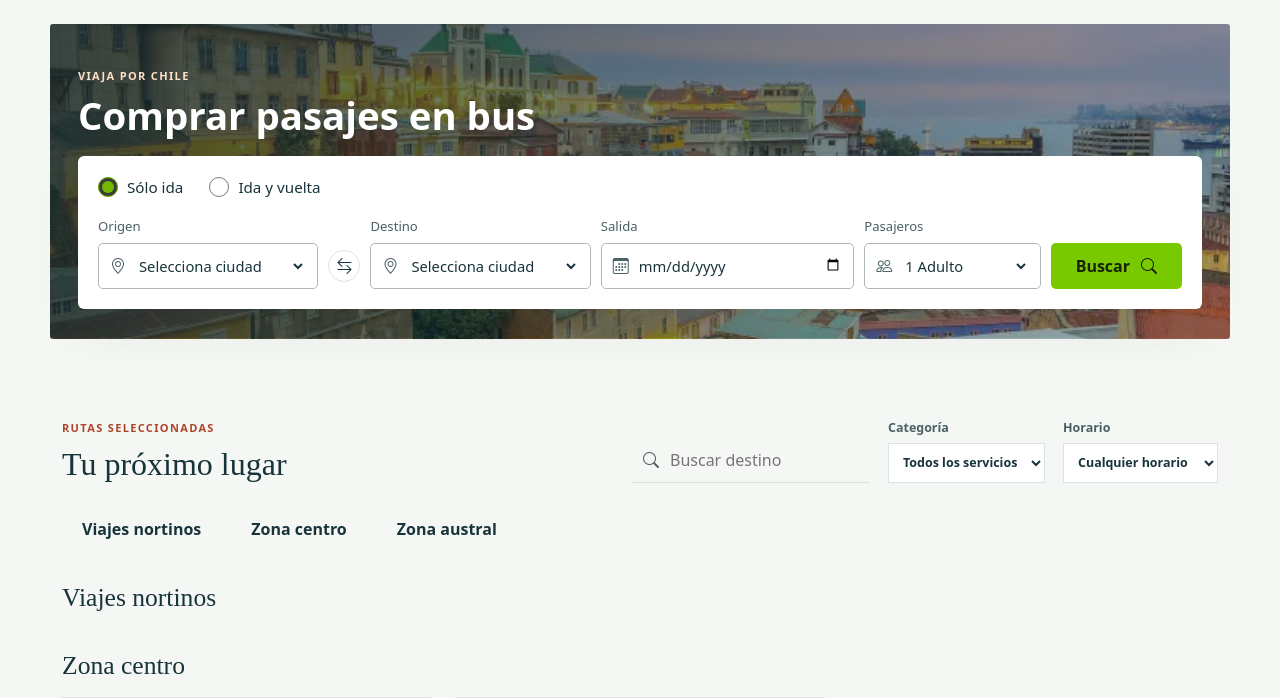
MenuPage › permite buscar ida y vuelta con origen, destino, fechas y pasajeros
The width and height of the screenshot is (1280, 698).
Step 1. Click the radio button labelled "Ida y vuelta" → (219, 188), box [209, 178, 229, 198]
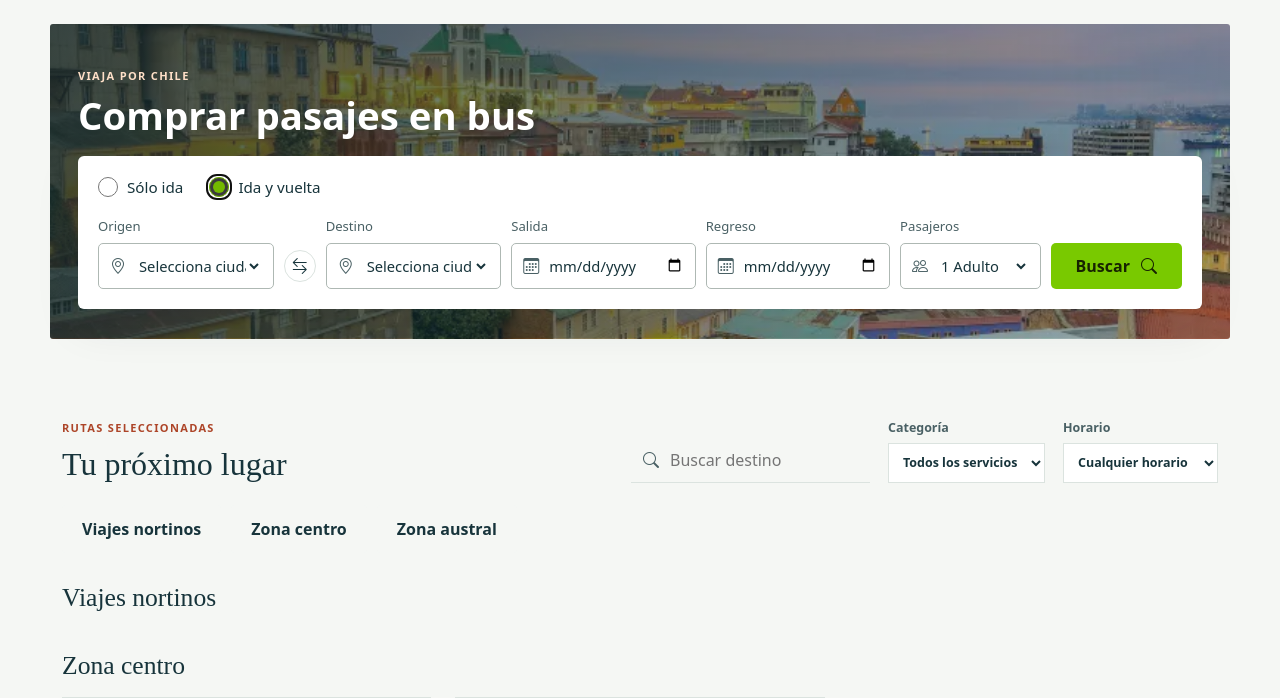
Step 2. Select "Santiago" in the dropdown labelled "Origen" → (198, 266), box [135, 244, 262, 288]
Step 3. Select "Valparaíso" in the dropdown labelled "Destino" → (426, 266), box [363, 244, 489, 288]
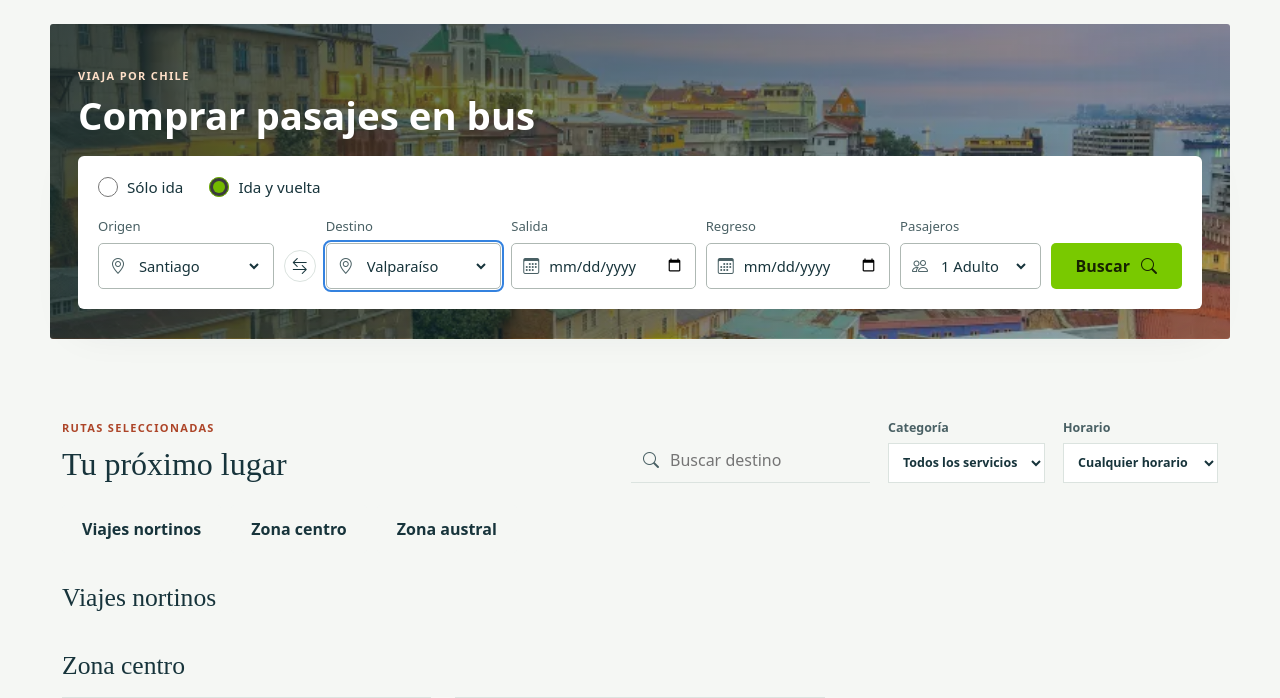
Step 4. Type "2026-12-01" into the date field labelled "Salida" → (616, 266), box [548, 244, 684, 288]
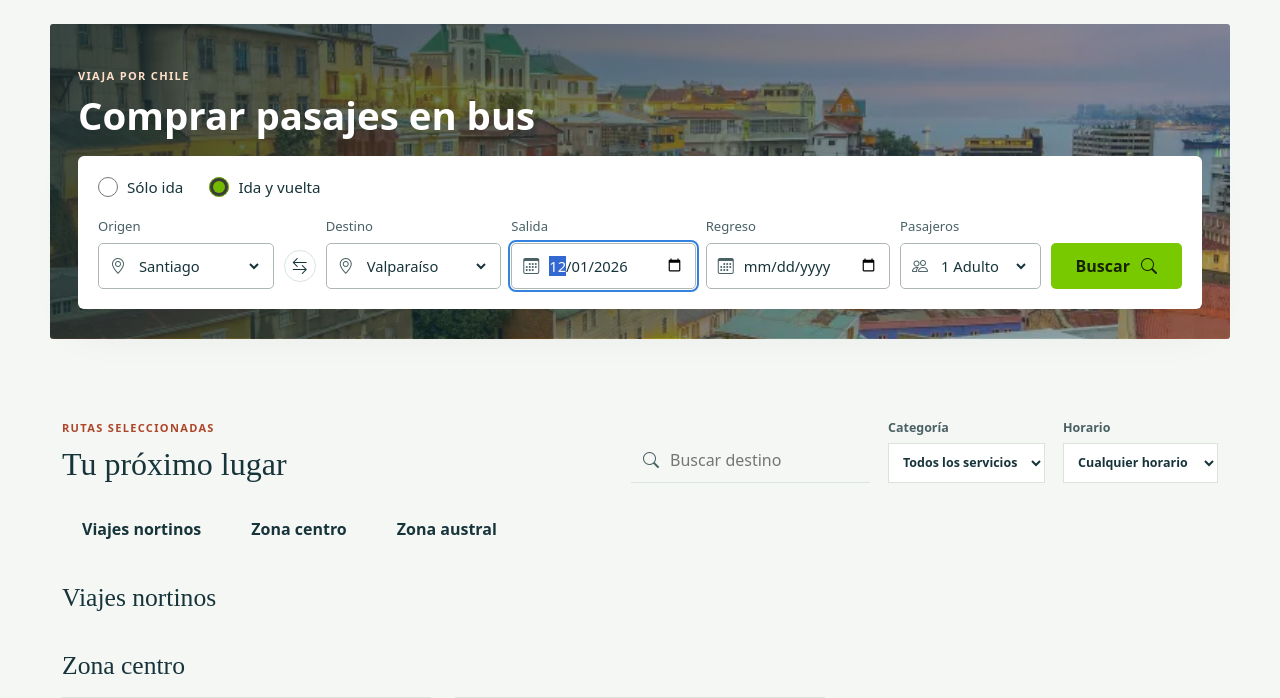
Step 5. Type "2026-12-05" into the date field labelled "Regreso" → (810, 266), box [743, 244, 878, 288]
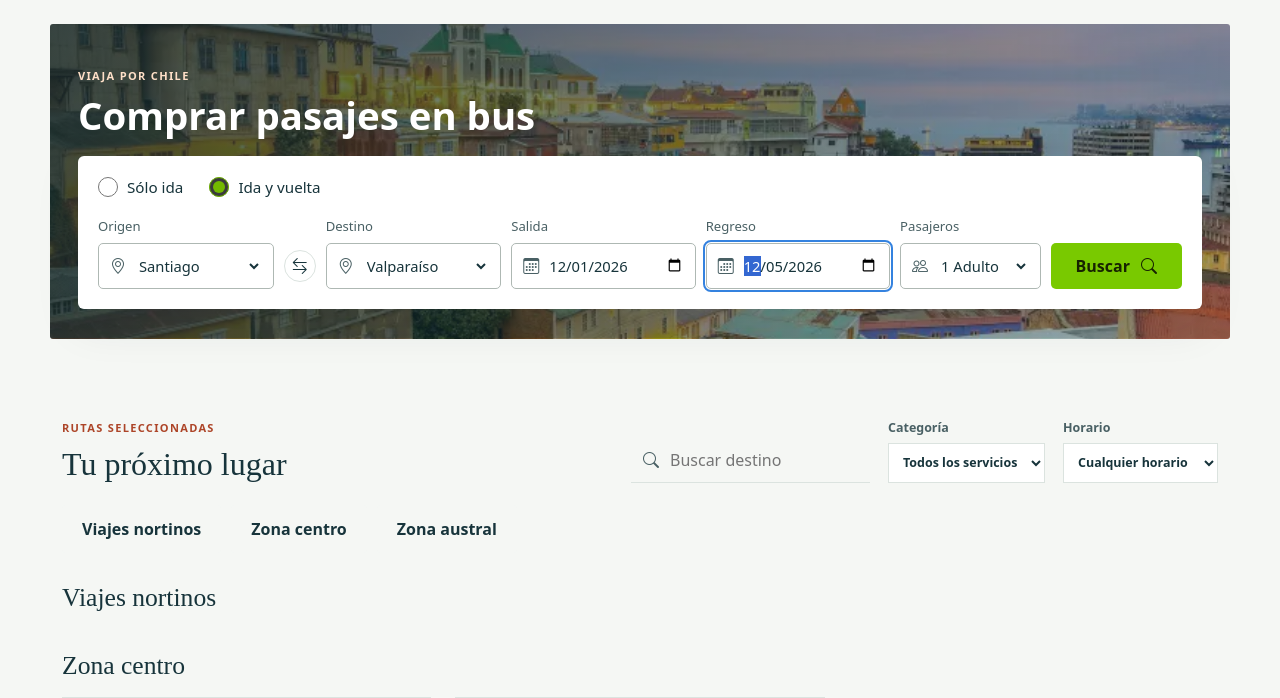
Step 6. Select "2 Adultos" in the dropdown labelled "Pasajeros" → (983, 266), box [937, 244, 1029, 288]
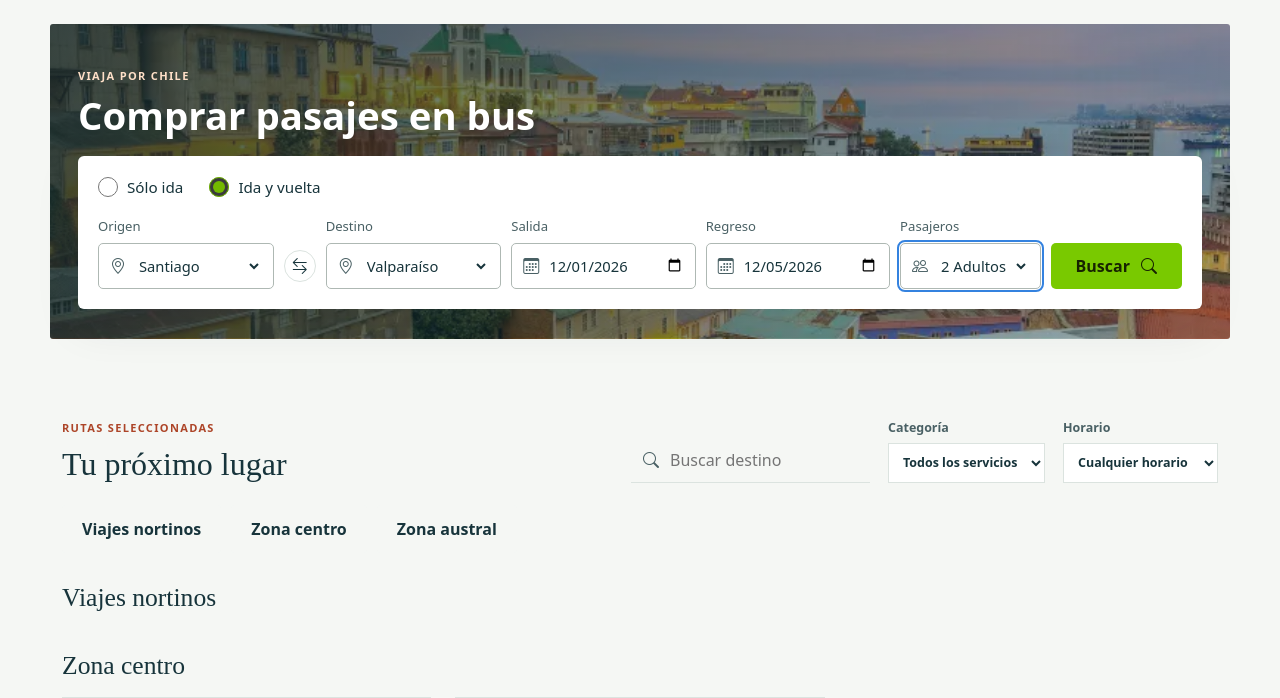
Step 7. Click the button "Buscar" → (1116, 266), box [1051, 243, 1182, 289]
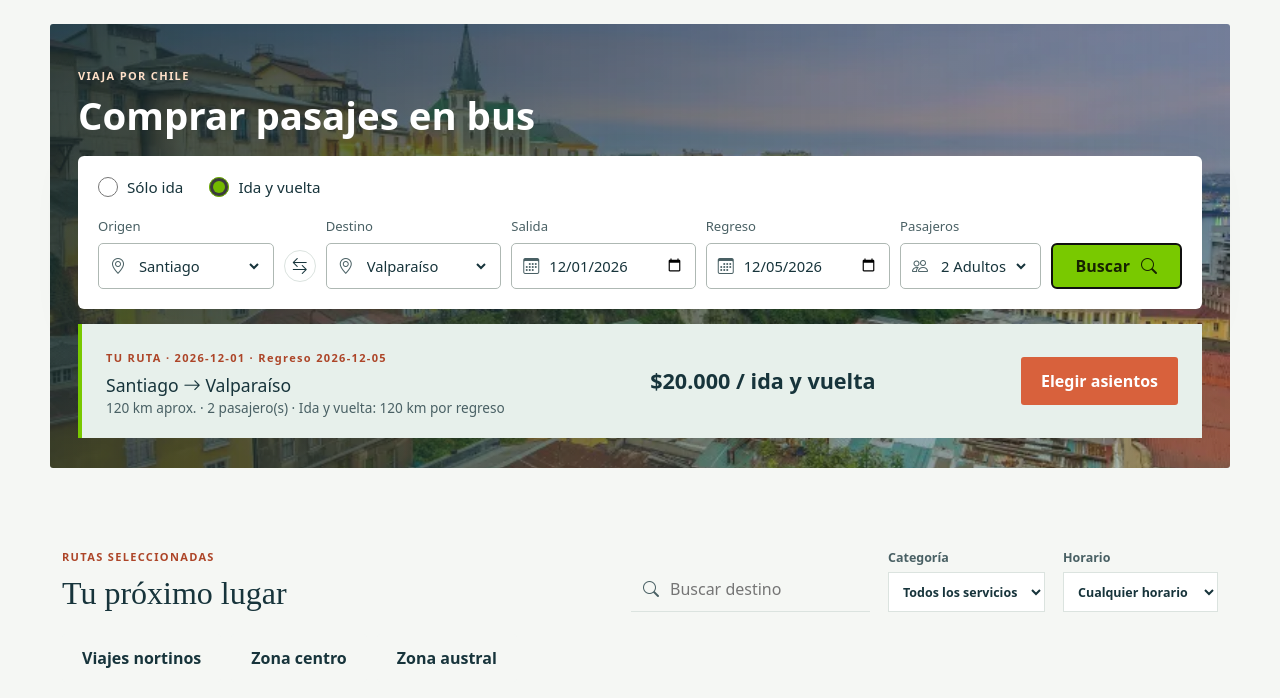
Now the text "TU RUTA · 2026-12-01 · Regreso 2026-12-05" is shown, box [106, 350, 387, 366]
Now the text "2 pasajero" is shown, box [106, 398, 505, 418]
